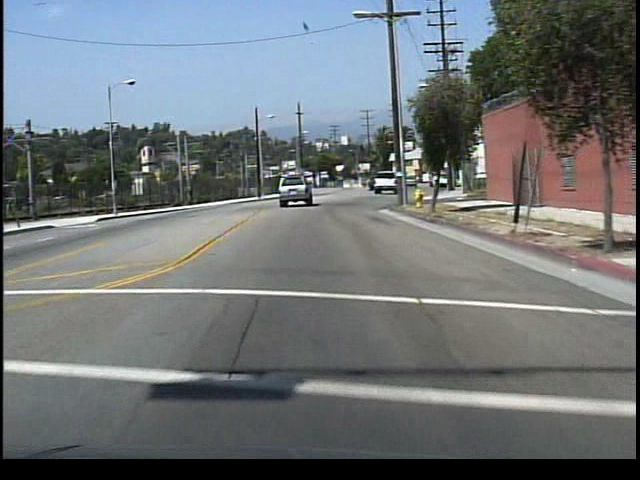person: (184, 181, 200, 207)
